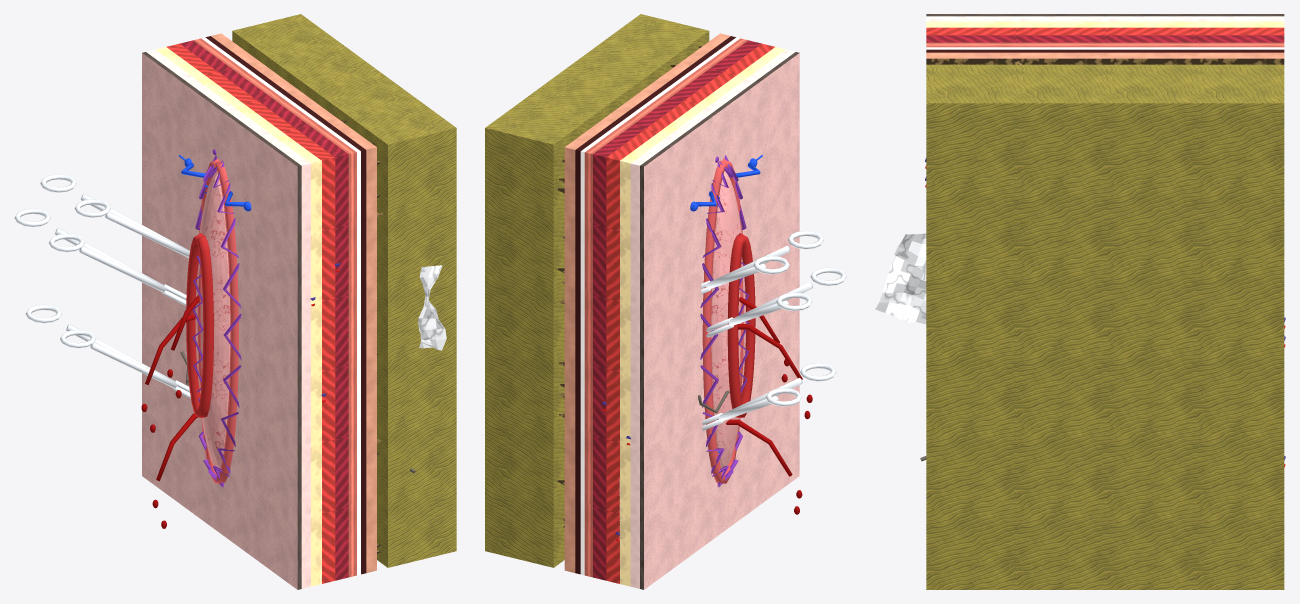
File: flank-DqiHHc5c.glb
3 views of the same model, side by side, from view 1: azimuth 30°, elevation 25°; view 2: azimuth 150°, elevation 25°; view 3: azimuth 270°, elevation 25° (orthographic). The views are drawn at different scales.
Visible parts, largest first — view 1: FL_hair, FL_ingesta, VAR_rumen_open, FL_ext_oblique, FL_int_oblique, FL_rumen_wall, FL_subcutis, FL_skin, VAR_rumen_closed, FL_transversus, FL_cavity, FL_peritoneum (+5 smaller); view 2: FL_hair, FL_ingesta, FL_ext_oblique, FL_int_oblique, VAR_rumen_open, FL_rumen_wall, FL_subcutis, FL_skin, VAR_rumen_closed, FL_transversus, FL_cavity, FL_peritoneum (+6 smaller); view 3: FL_ingesta, FL_rumen_wall, ITEM_plastic, FL_ext_oblique, FL_int_oblique, FL_subcutis, FL_skin, FL_transversus, FL_cavity, FL_peritoneum, FL_hair.
Boxes of the visible parts, box(x1,y1,x2,y2) form: FL_hair: box(142, 52, 301, 589); FL_ingesta: box(232, 14, 456, 567); VAR_rumen_open: box(186, 171, 230, 471); FL_ext_oblique: box(166, 43, 335, 583); FL_int_oblique: box(180, 40, 348, 580); FL_rumen_wall: box(211, 33, 376, 572); FL_subcutis: box(155, 47, 321, 586); FL_skin: box(146, 49, 310, 588); VAR_rumen_closed: box(179, 149, 251, 487); FL_transversus: box(193, 38, 356, 577); FL_cavity: box(205, 36, 366, 574); FL_peritoneum: box(201, 37, 360, 575); FL_hair: box(640, 52, 799, 589); FL_ingesta: box(485, 14, 709, 567); FL_ext_oblique: box(606, 43, 774, 583); FL_int_oblique: box(593, 40, 761, 580); VAR_rumen_open: box(711, 171, 755, 471); FL_rumen_wall: box(564, 33, 730, 572); FL_subcutis: box(620, 47, 785, 586); FL_skin: box(630, 49, 795, 588); VAR_rumen_closed: box(690, 155, 762, 487); FL_transversus: box(584, 38, 747, 577); FL_cavity: box(575, 36, 735, 574); FL_peritoneum: box(580, 37, 739, 575); FL_ingesta: box(926, 64, 1284, 589); FL_rumen_wall: box(926, 52, 1284, 64); ITEM_plastic: box(875, 233, 926, 324); FL_ext_oblique: box(926, 27, 1284, 35); FL_int_oblique: box(926, 35, 1284, 42); FL_subcutis: box(926, 21, 1284, 27); FL_skin: box(926, 16, 1284, 21); FL_transversus: box(926, 42, 1284, 47); FL_cavity: box(926, 49, 1284, 52); FL_peritoneum: box(926, 47, 1284, 49); FL_hair: box(926, 14, 1284, 16).
Size of the model in its own units: 0.226 by 0.3 by 0.2294.
Materials: 25 (14 with a texture image).
